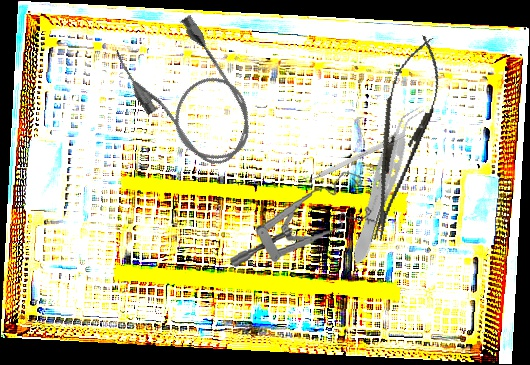Cannula: (108, 5, 270, 184)
Hook Surgical: (298, 131, 407, 188)
Needle Holder: (352, 30, 452, 247)
Speculum: (220, 168, 377, 270)
Tissue Forceps: (344, 99, 426, 269)
